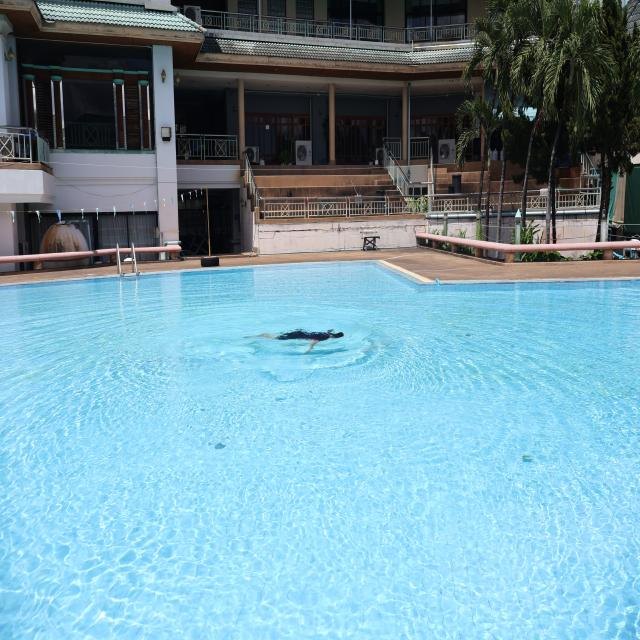Swimming: (248, 323, 348, 362)
